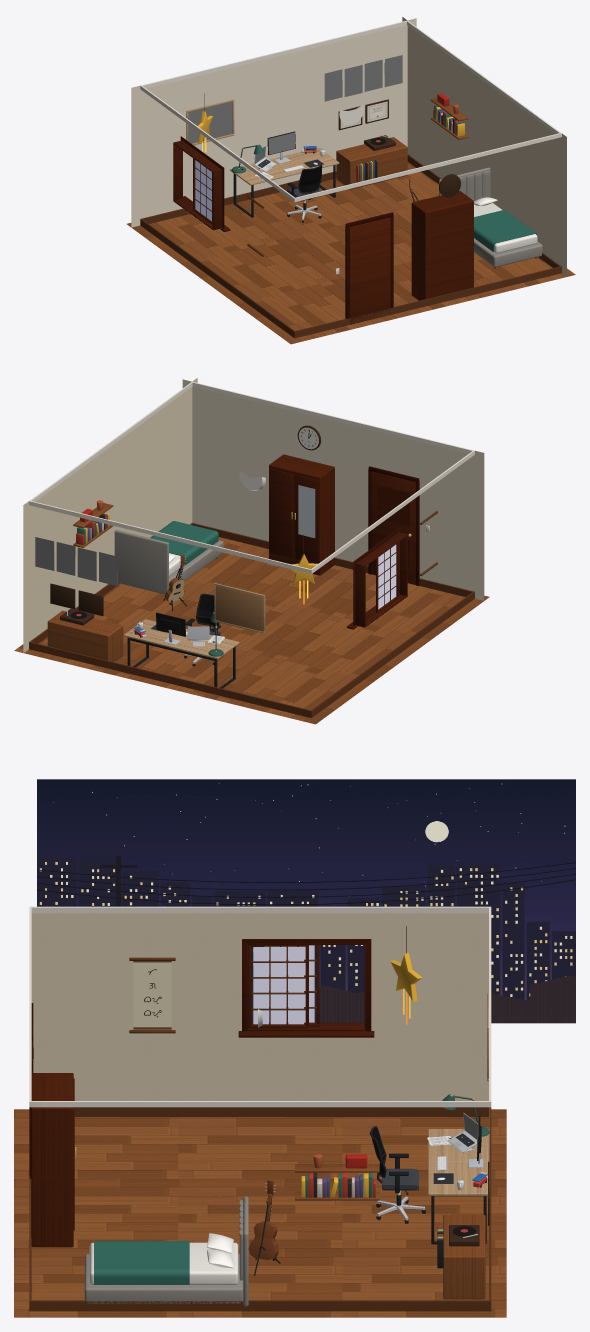
The model's file is room_baked.glb.
3 views of the same model, one above another, from view 1: azimuth 30°, elevation 25°; view 2: azimuth 150°, elevation 25°; view 3: azimuth 270°, elevation 25° (orthographic). The views are drawn at different scales.
Visible parts, largest first — view 1: Mesh_0, Mesh_2, Mesh_3, Mesh_245, Mesh_240, Mesh_9, Mesh_191, hd_bed_blanket, Mesh_13, Mesh_12, Mesh_16, Mesh_6 (+17 smaller); view 2: Mesh_0, Mesh_4, Mesh_3, hd_bed_frame, Mesh_245, Mesh_191, Mesh_8, Mesh_246, clk_cork, Mesh_240, Mesh_12, Mesh_13 (+17 smaller); view 3: nobake_outside, Mesh_1, Mesh_0, Mesh_245, Mesh_7, hd_bed_blanket, Mesh_6, hd_bed_frame, Mesh_10, Mesh_11, clk_baybayin, Mesh_191 (+5 smaller).
Part boxes in pixels (box(x1,y1,x2,y2)): Mesh_0: box(127, 162, 575, 344); Mesh_2: box(131, 18, 416, 227); Mesh_3: box(402, 17, 566, 276); Mesh_245: box(411, 191, 473, 300); Mesh_240: box(349, 217, 390, 324); Mesh_9: box(294, 266, 560, 337); Mesh_191: box(336, 137, 407, 189); hd_bed_blanket: box(474, 210, 537, 252); Mesh_13: box(294, 133, 560, 201); Mesh_12: box(140, 21, 406, 89); Mesh_16: box(230, 147, 339, 185); Mesh_6: box(140, 219, 295, 338); Mesh_0: box(14, 537, 489, 724); Mesh_4: box(182, 379, 484, 600); Mesh_3: box(23, 378, 197, 652); hd_bed_frame: box(114, 530, 223, 594); Mesh_245: box(269, 454, 334, 575); Mesh_191: box(47, 610, 123, 661); Mesh_8: box(29, 641, 312, 717); Mesh_246: box(269, 468, 293, 558); clk_cork: box(214, 583, 265, 633); Mesh_240: box(372, 472, 415, 584); Mesh_12: box(30, 501, 312, 573); Mesh_13: box(192, 382, 474, 454); nobake_outside: box(37, 779, 575, 1023); Mesh_1: box(31, 913, 488, 1100); Mesh_0: box(14, 1109, 506, 1317); Mesh_245: box(31, 1073, 73, 1247); Mesh_7: box(29, 1300, 491, 1311); hd_bed_blanket: box(94, 1241, 189, 1284); Mesh_6: box(74, 1107, 488, 1116); hd_bed_frame: box(84, 1196, 248, 1306); Mesh_10: box(31, 906, 488, 913); Mesh_11: box(29, 1101, 491, 1107); clk_baybayin: box(129, 957, 175, 1033); Mesh_191: box(443, 1214, 485, 1299).
Bounding box in the file's own units: 8.4 × 3.81 × 7.3.
Materials: 247 (48 with a texture image).
